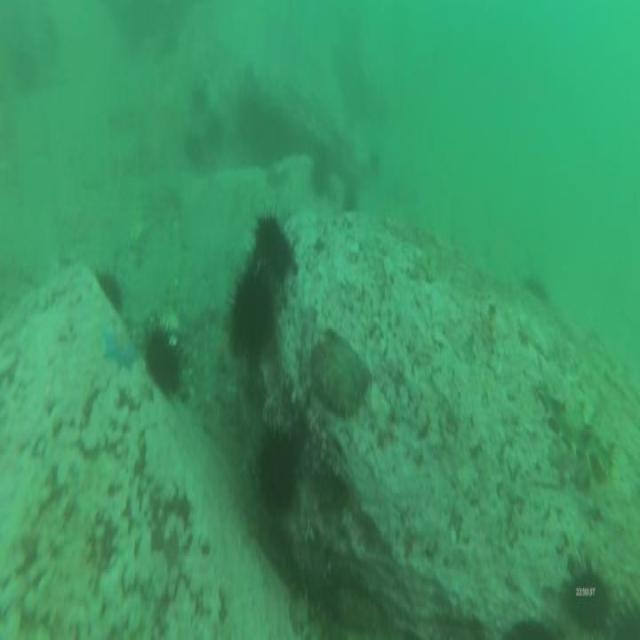echinus: (222, 268, 279, 369), (253, 424, 303, 526), (562, 558, 617, 640), (250, 204, 297, 291), (142, 318, 188, 398), (499, 608, 562, 640), (92, 266, 127, 318), (611, 591, 640, 640), (11, 48, 39, 96), (183, 128, 208, 172), (519, 270, 551, 304), (202, 111, 225, 153), (309, 156, 330, 198), (187, 82, 209, 122), (366, 146, 383, 180), (341, 180, 356, 217)
holothurian: (535, 381, 618, 477), (412, 226, 447, 286)
starfish: (100, 326, 140, 374)
